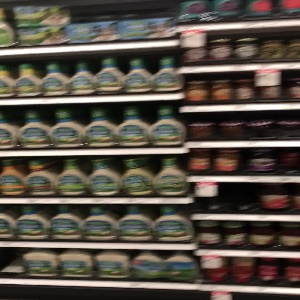void: (189, 184, 261, 219), (1, 247, 25, 277)
